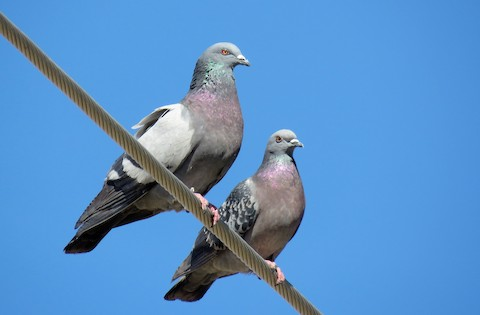pigeon: (57, 38, 254, 258), (158, 127, 315, 306)
